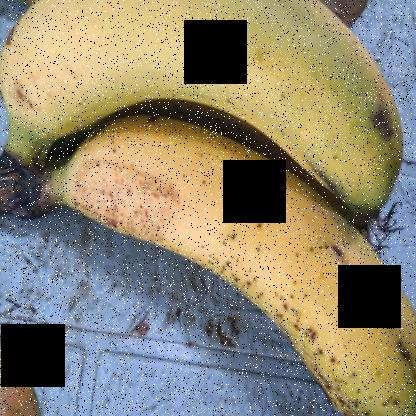freshripe: (8, 1, 409, 212)
ripe: (66, 110, 415, 415)
